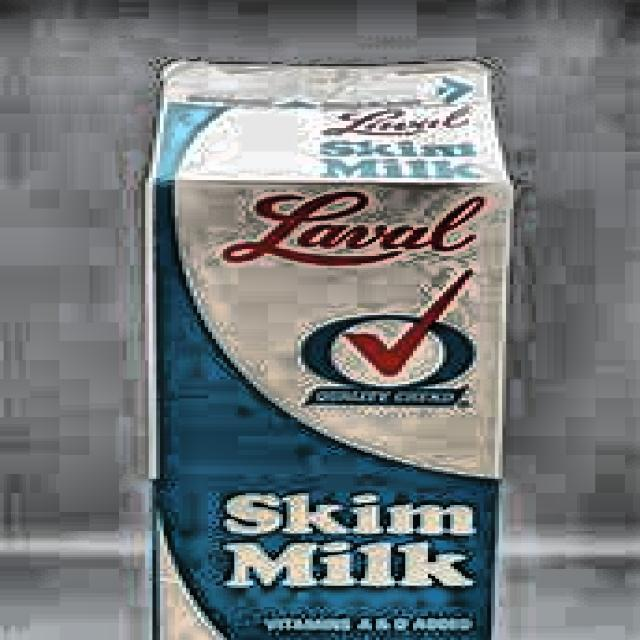cardboard: (142, 57, 514, 638)
